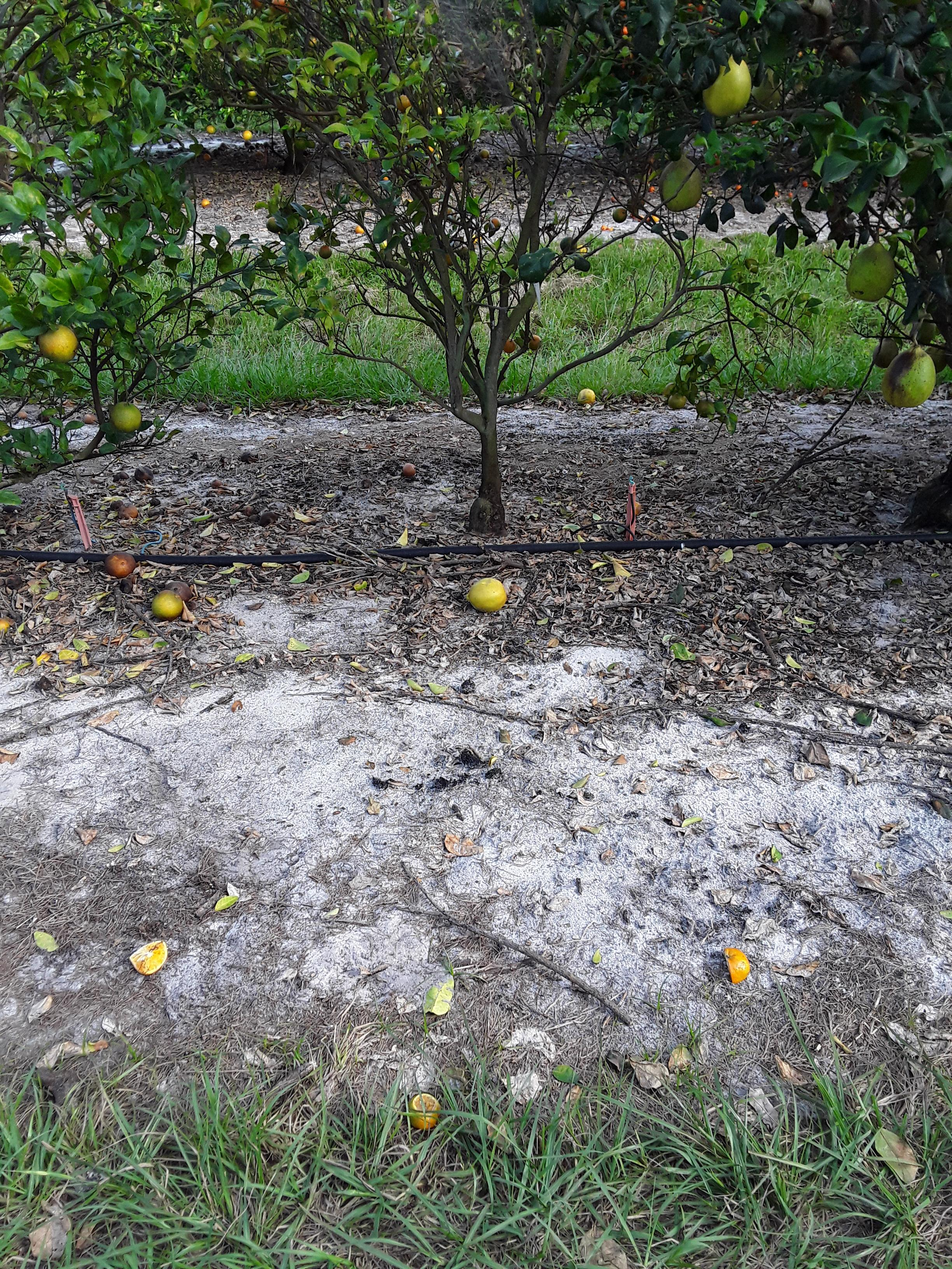fruit_on_ground: (698, 51, 756, 120), (878, 346, 938, 410), (843, 240, 898, 303), (656, 155, 706, 213), (35, 321, 81, 365), (912, 338, 947, 378), (868, 334, 904, 371), (108, 399, 145, 435), (673, 0, 714, 20), (880, 0, 931, 16), (694, 397, 718, 419), (665, 391, 689, 413), (265, 213, 284, 233), (395, 93, 413, 113), (268, 0, 293, 14), (626, 193, 645, 211), (557, 235, 576, 253), (573, 255, 592, 273), (500, 336, 518, 354), (439, 248, 456, 266), (527, 333, 543, 351), (317, 243, 333, 259), (751, 358, 767, 373), (612, 206, 628, 221), (248, 0, 266, 11), (204, 122, 217, 135), (433, 105, 446, 117), (425, 143, 438, 155), (241, 128, 254, 140), (245, 88, 257, 100)
fruit_on_tree: (128, 936, 170, 979), (405, 1089, 444, 1134), (465, 575, 509, 614), (714, 944, 752, 987), (149, 587, 186, 621), (102, 549, 138, 580), (163, 577, 195, 601), (575, 386, 598, 406), (0, 610, 16, 638), (119, 502, 140, 521), (399, 460, 418, 478), (259, 509, 279, 526), (237, 448, 258, 464), (503, 335, 520, 354), (135, 466, 155, 482), (527, 334, 545, 351), (111, 468, 130, 484), (612, 205, 629, 222), (81, 410, 98, 426), (210, 477, 227, 490), (575, 242, 590, 255), (37, 410, 52, 423), (488, 215, 502, 228), (16, 408, 30, 420), (352, 223, 366, 235), (769, 188, 781, 201), (648, 213, 661, 225), (479, 147, 492, 159), (799, 177, 811, 189), (599, 222, 611, 234), (200, 196, 212, 208), (784, 188, 796, 199), (201, 150, 212, 161), (733, 182, 743, 192)
